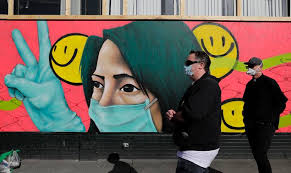mask: (180, 47, 209, 79), (243, 56, 264, 80)
